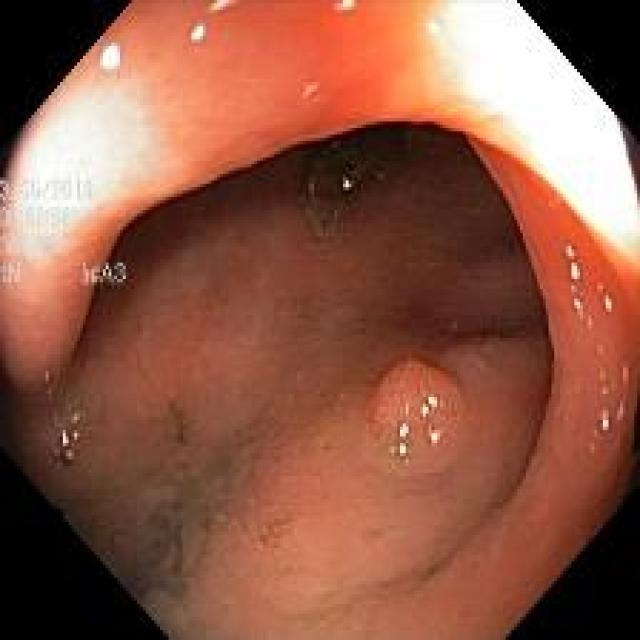Polyps: (369, 360, 466, 475)
